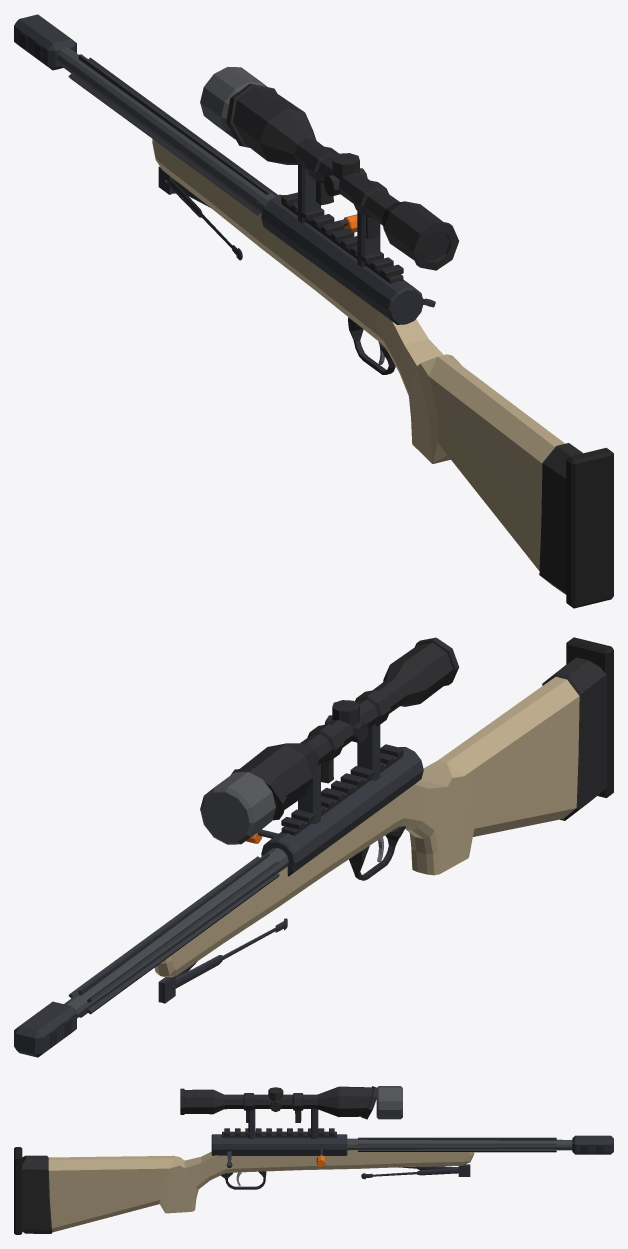
Rendered from sniper.glb.
3 views of the same model, one above another, from view 1: azimuth 30°, elevation 25°; view 2: azimuth 150°, elevation 25°; view 3: azimuth 270°, elevation 25° (orthographic). The views are drawn at different scales.
Parts seen in each view (by area): view 1: sniper; view 2: sniper; view 3: sniper.
Boxes of the visible parts, <box> form: sniper: <box>14,14,613,608</box>; sniper: <box>14,637,613,1057</box>; sniper: <box>14,1086,613,1234</box>.
Size of the model in its own units: 0.1177 by 0.348 by 1.3.
